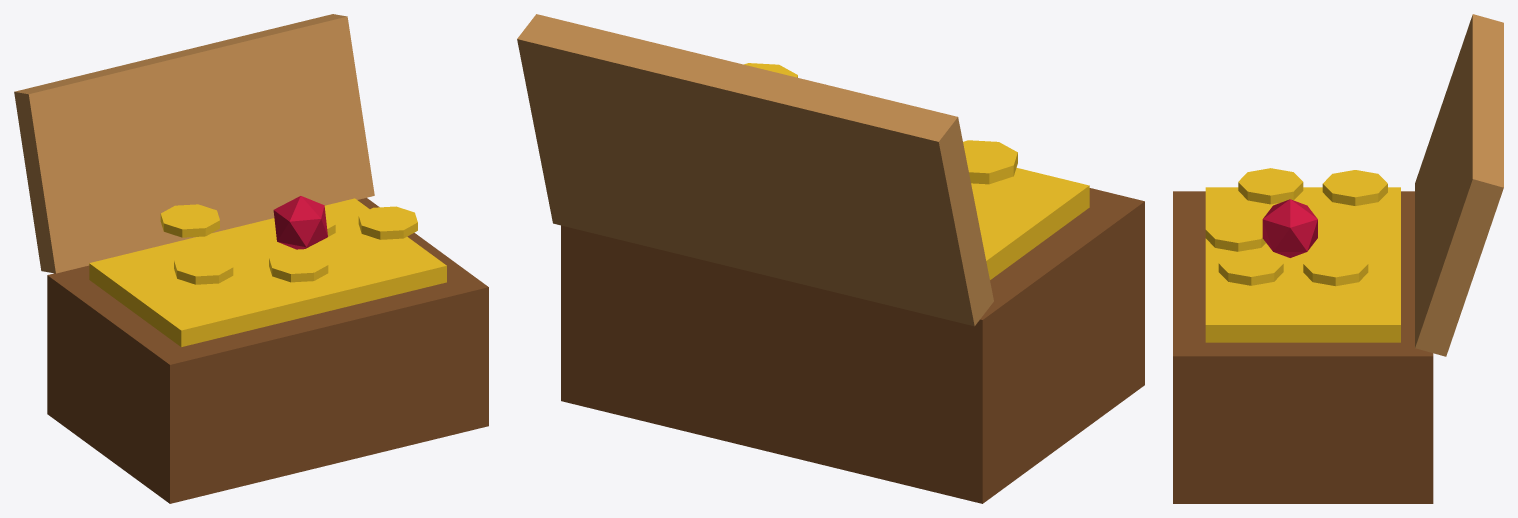
The model's file is open_chest_gold.glb.
3 renders of one model, left to right at view 1: azimuth 30°, elevation 25°; view 2: azimuth 150°, elevation 25°; view 3: azimuth 270°, elevation 25°, orthographic. The views are drawn at different scales.
Visible parts, largest first — view 1: open_chest_gold; view 2: open_chest_gold; view 3: open_chest_gold.
Boxes of the visible parts, x1=… form: open_chest_gold: x1=14, y1=14, x2=488, y2=503; open_chest_gold: x1=517, y1=14, x2=1144, y2=503; open_chest_gold: x1=1173, y1=14, x2=1503, y2=503.
Size of the model in its own units: 0.6 by 0.5507 by 0.5082.
